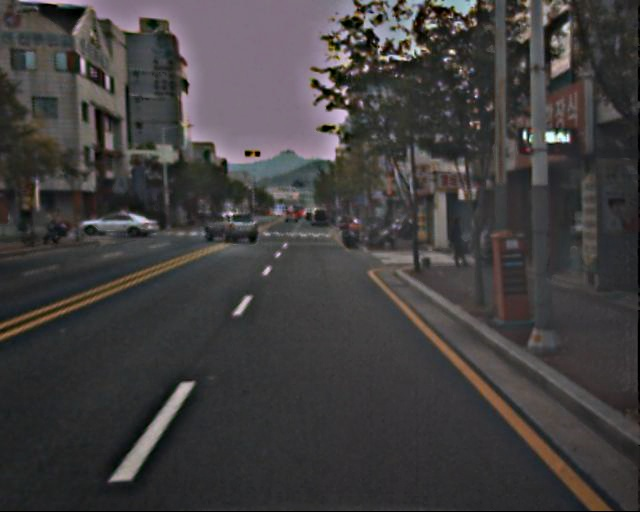person: (448, 215, 470, 269)
